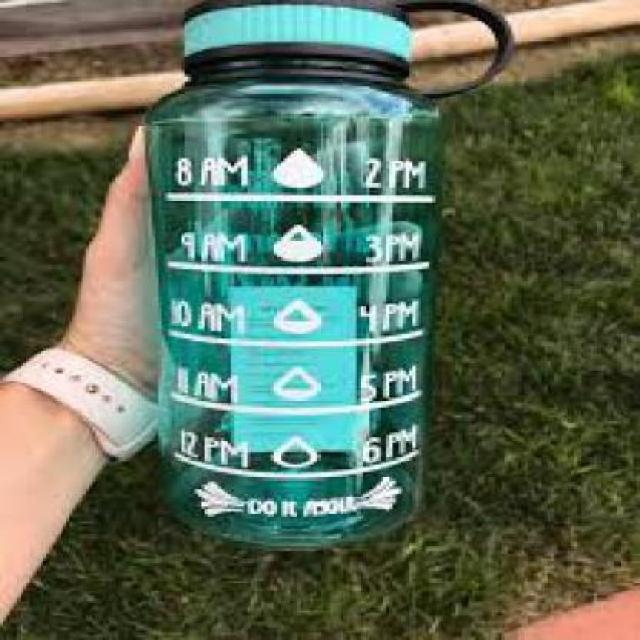Drinking: (100, 0, 474, 571)
